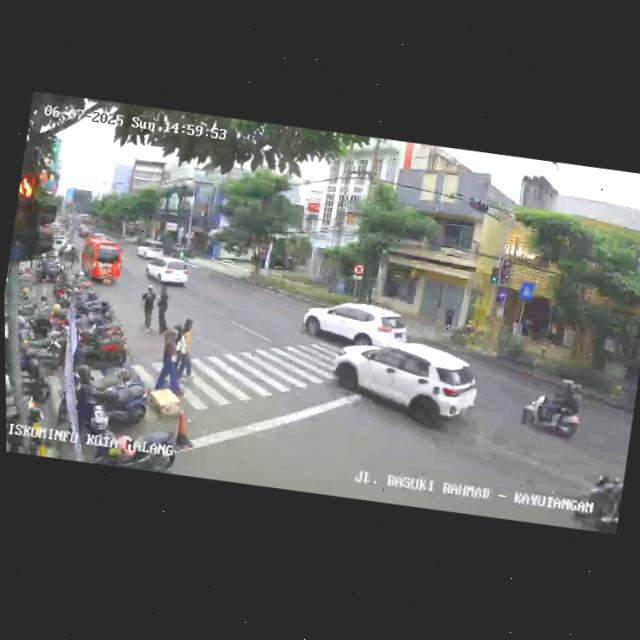car: (327, 329, 484, 438), (299, 293, 412, 357), (76, 234, 126, 288), (143, 253, 191, 293), (135, 237, 165, 262)
motorcycle: (519, 373, 588, 445), (568, 470, 625, 535)
person: (151, 326, 193, 400), (174, 317, 204, 385), (164, 323, 190, 386), (135, 283, 160, 335), (150, 284, 175, 336)
